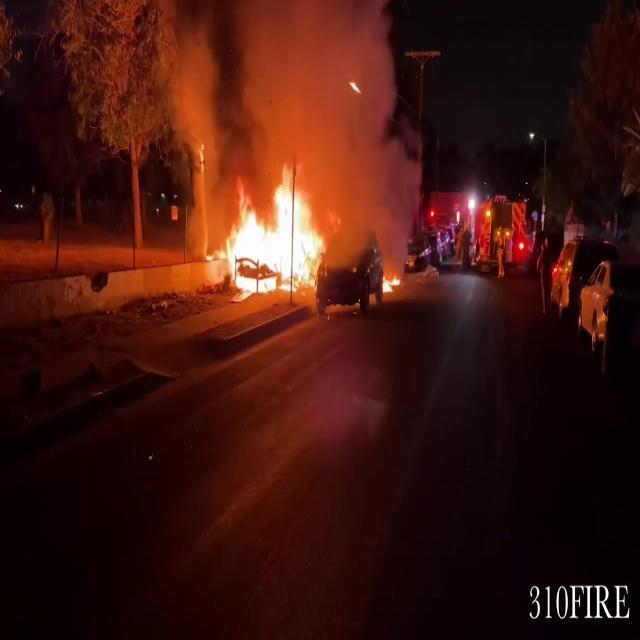Fire: (210, 164, 334, 299)
Smoke: (159, 0, 420, 188)
